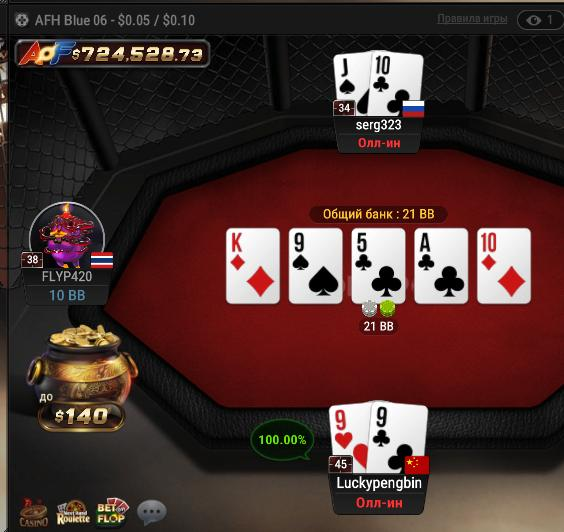10c: (370, 51, 424, 116)
10d: (477, 229, 530, 304)
5c: (352, 229, 406, 304)
9c: (369, 401, 428, 475)
9h: (329, 405, 369, 472)
9s: (290, 228, 343, 303)
Ac: (415, 229, 468, 304)
Js: (332, 53, 369, 116)
Kd: (227, 229, 280, 302)
